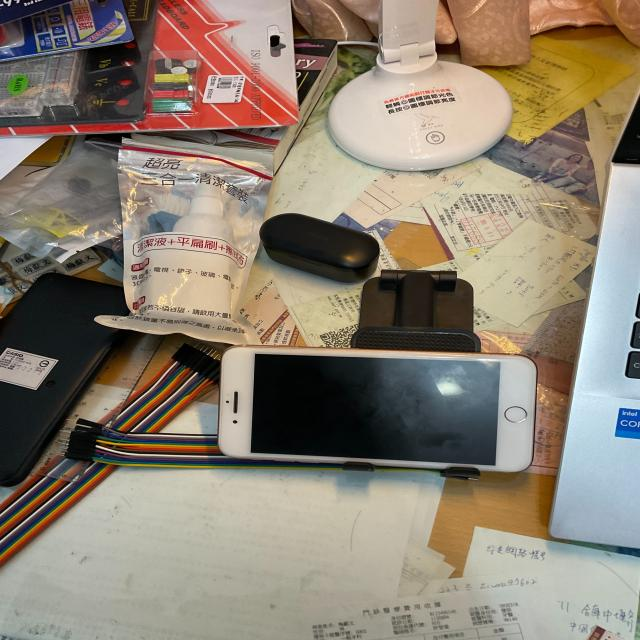Smartphone: (218, 342, 544, 492)
